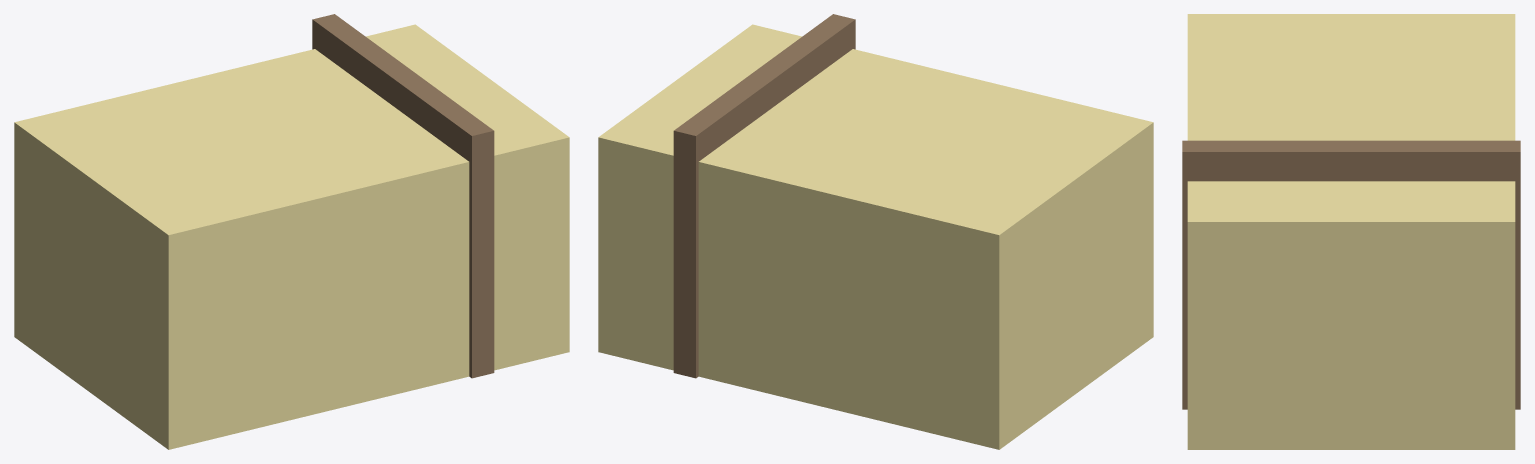
Rendered from Prop_Live_AMF_HayBale_V10.glb.
3 renders of one model, left to right at view 1: azimuth 30°, elevation 25°; view 2: azimuth 150°, elevation 25°; view 3: azimuth 270°, elevation 25°, orthographic. The views are drawn at different scales.
Parts seen in each view (by area): view 1: Prop_Live_AMF_HayBale_V10; view 2: Prop_Live_AMF_HayBale_V10; view 3: Prop_Live_AMF_HayBale_V10.
Part boxes in pixels (x1,y1,x2,y2): Prop_Live_AMF_HayBale_V10: (14,14,569,449); Prop_Live_AMF_HayBale_V10: (598,14,1153,449); Prop_Live_AMF_HayBale_V10: (1182,14,1520,449).
Bounding box in the file's own units: 0.9006 × 0.52 × 0.62.
